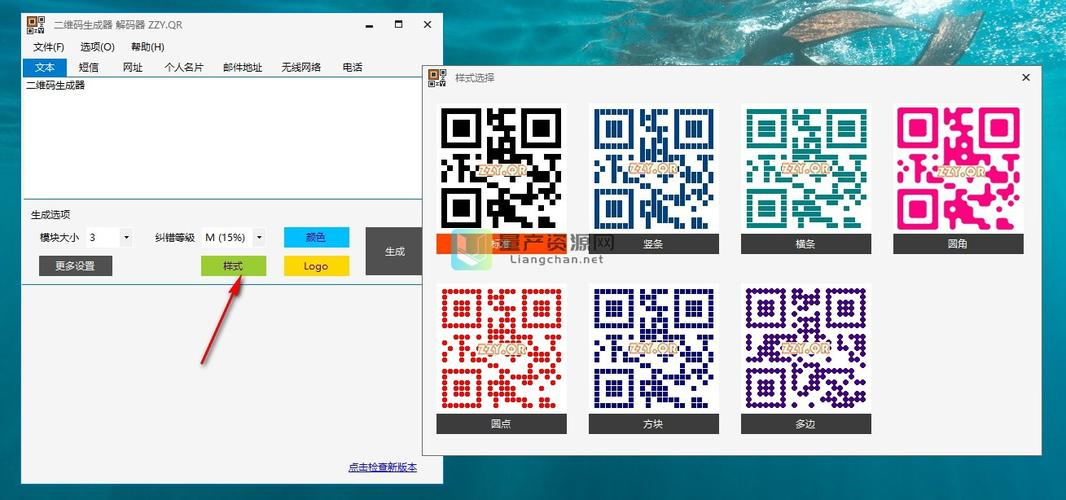QRCode: (586, 95, 719, 236), (737, 98, 871, 232), (739, 280, 874, 412), (436, 281, 569, 413), (893, 99, 1023, 232), (586, 279, 716, 411), (438, 104, 565, 229)
